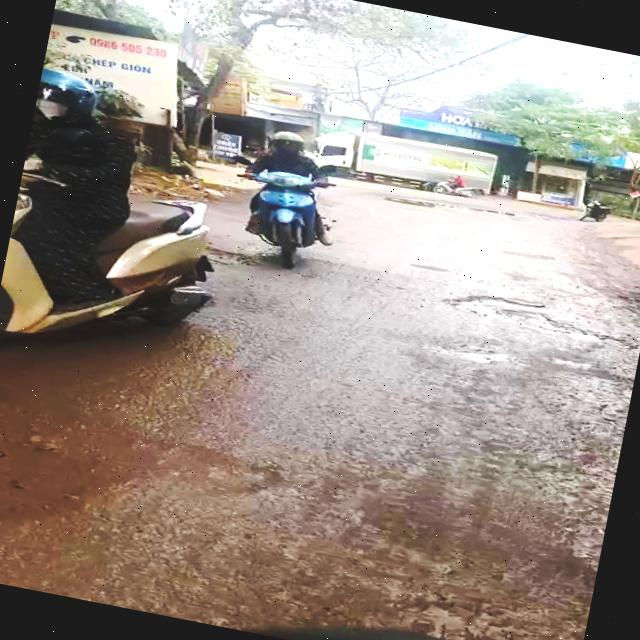pothole: (0, 375, 191, 557), (442, 278, 637, 355)
